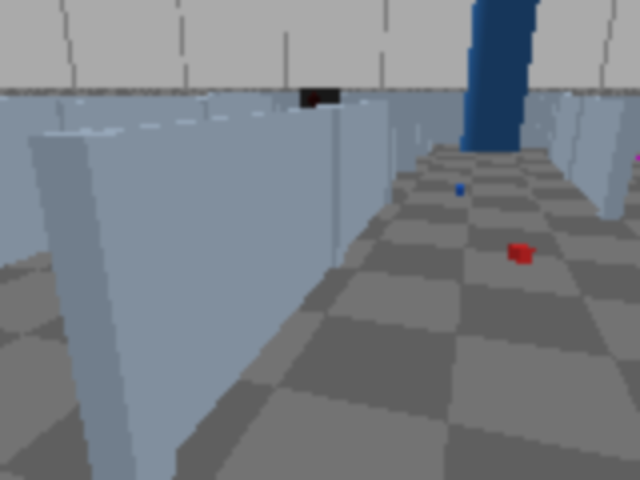puck: (508, 243, 534, 263)
